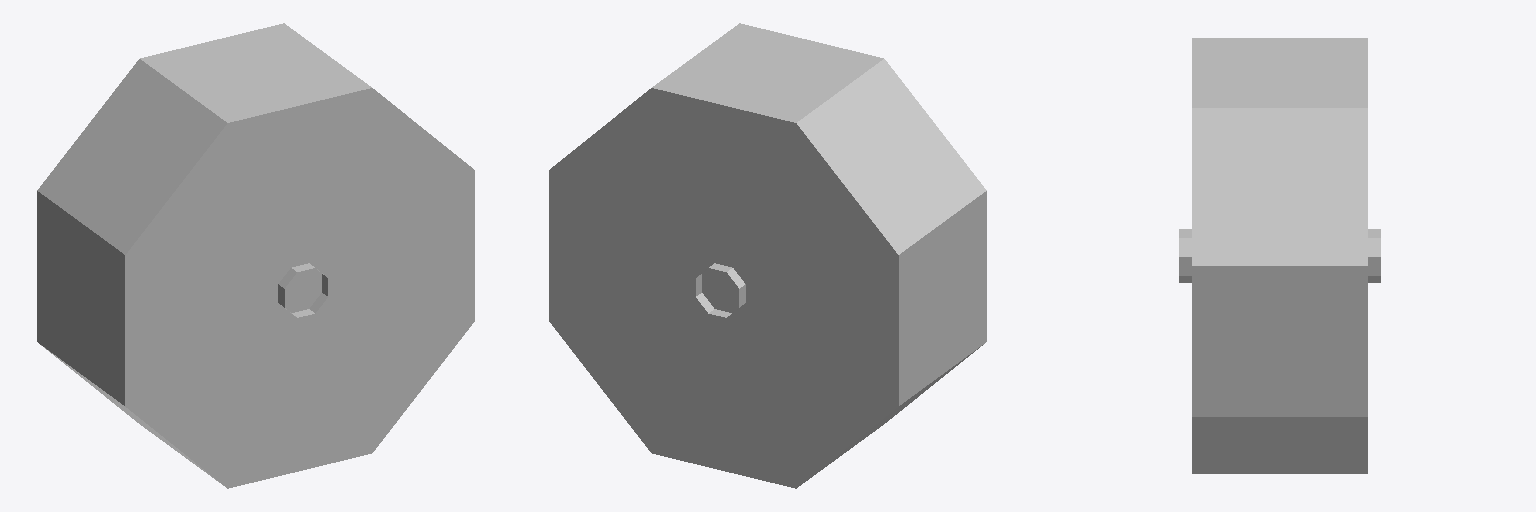
File: flywheel.obj
3 renders of one model, left to right at view 1: azimuth 30°, elevation 25°; view 2: azimuth 150°, elevation 25°; view 3: azimuth 270°, elevation 25°, orthographic.
Parts seen in each view (by area): view 1: Flywheel_Cylinder; view 2: Flywheel_Cylinder; view 3: Flywheel_Cylinder.
Boxes of the visible parts, x1,y1,x2,y2 form: Flywheel_Cylinder: [37, 23, 474, 488]; Flywheel_Cylinder: [549, 23, 986, 488]; Flywheel_Cylinder: [1179, 38, 1380, 473].
Size of the model in its own units: 2 by 2 by 1.